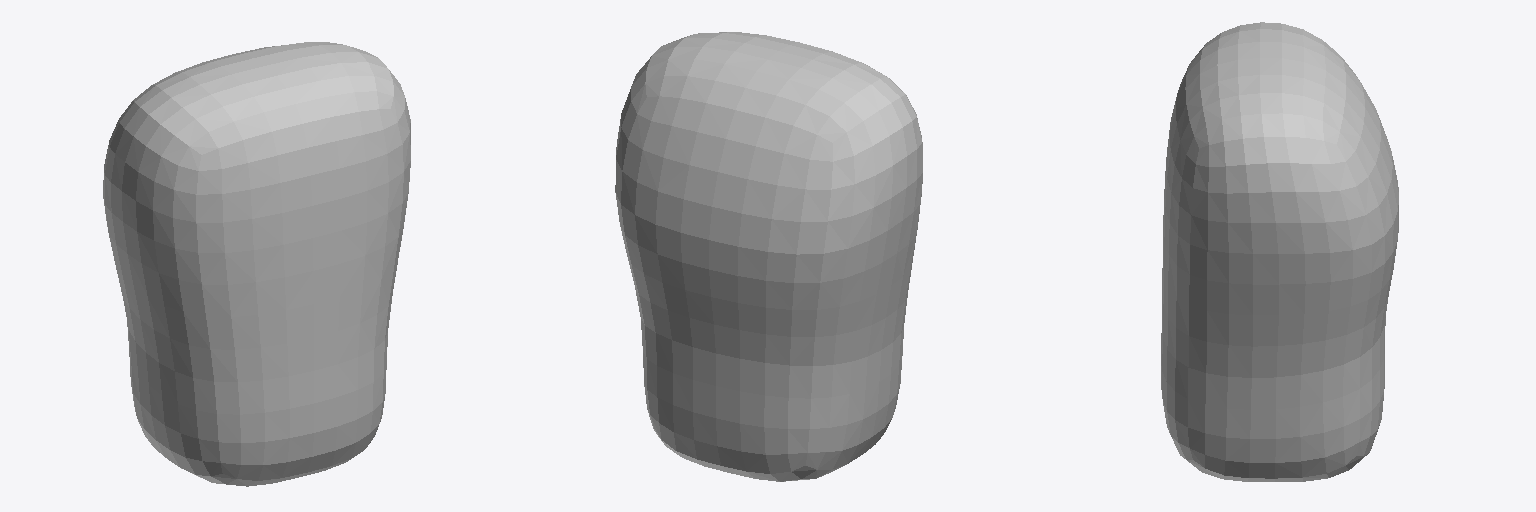
File: torso.obj
3 renders of one model, left to right at view 1: azimuth 30°, elevation 25°; view 2: azimuth 150°, elevation 25°; view 3: azimuth 270°, elevation 25°, orthographic.
Parts seen in each view (by area): view 1: pCube1; view 2: pCube1; view 3: pCube1.
Part boxes in pixels (left/top/right/bottom): pCube1: left=103, top=42, right=410, bottom=486; pCube1: left=615, top=32, right=922, bottom=481; pCube1: left=1161, top=22, right=1398, bottom=481.
Size of the model in its own units: 2.05 by 2.84 by 1.55.